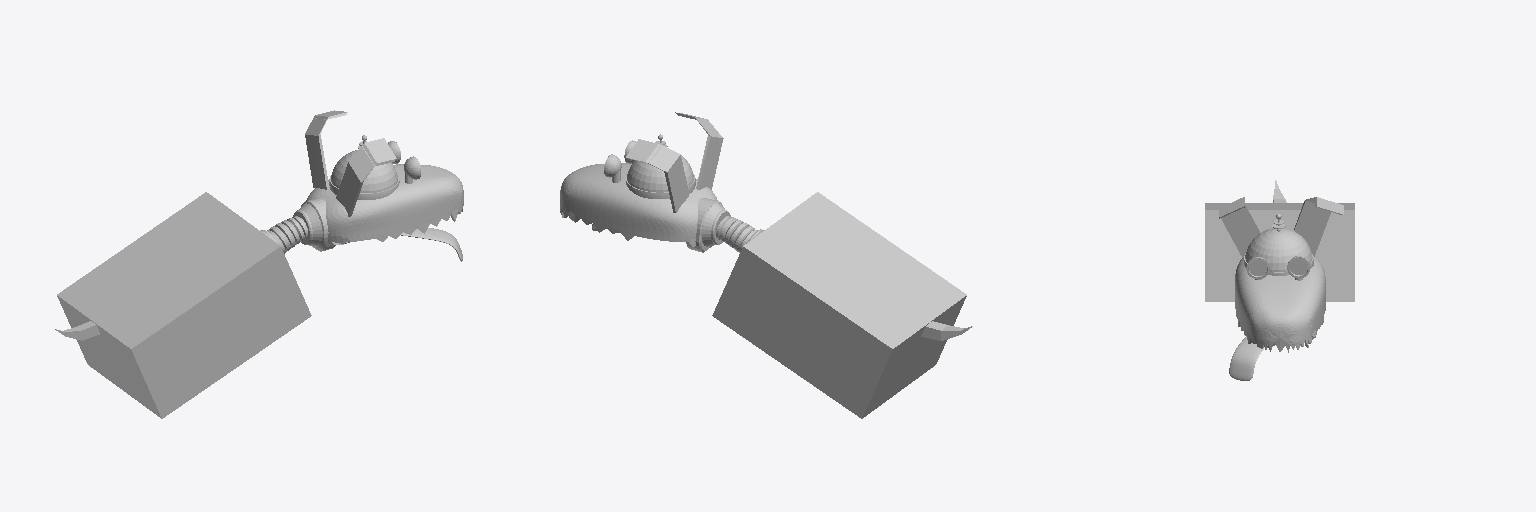
Rendered from cuerpo.obj.
The picture shows the model from 3 angles: view 1: azimuth 30°, elevation 25°; view 2: azimuth 150°, elevation 25°; view 3: azimuth 270°, elevation 25°; orthographic projection.
Visible parts, largest first — view 1: Plano.001; view 2: Plano.001; view 3: Plano.001.
Part boxes in pixels (x1,y1,x2,y2): Plano.001: (55, 110, 463, 418); Plano.001: (560, 112, 972, 418); Plano.001: (1205, 180, 1354, 380).
Size of the model in its own units: 7.76 by 3.8 by 2.47.